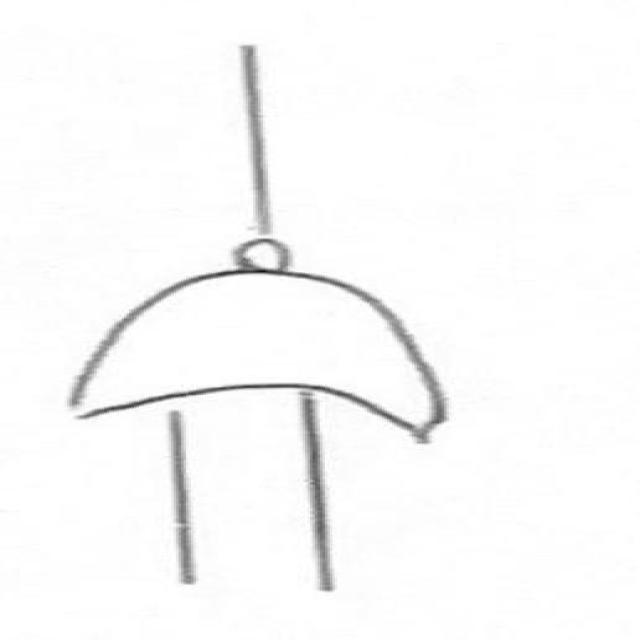NOR: (41, 235, 542, 458)
